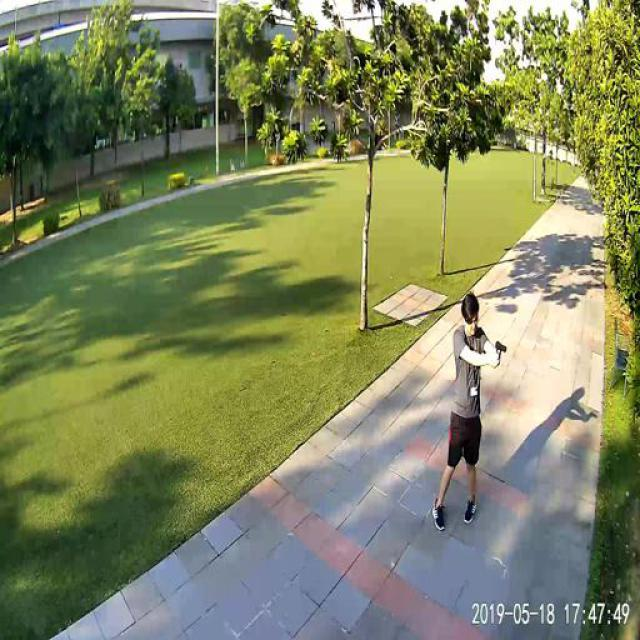Gun: (492, 336, 506, 354)
